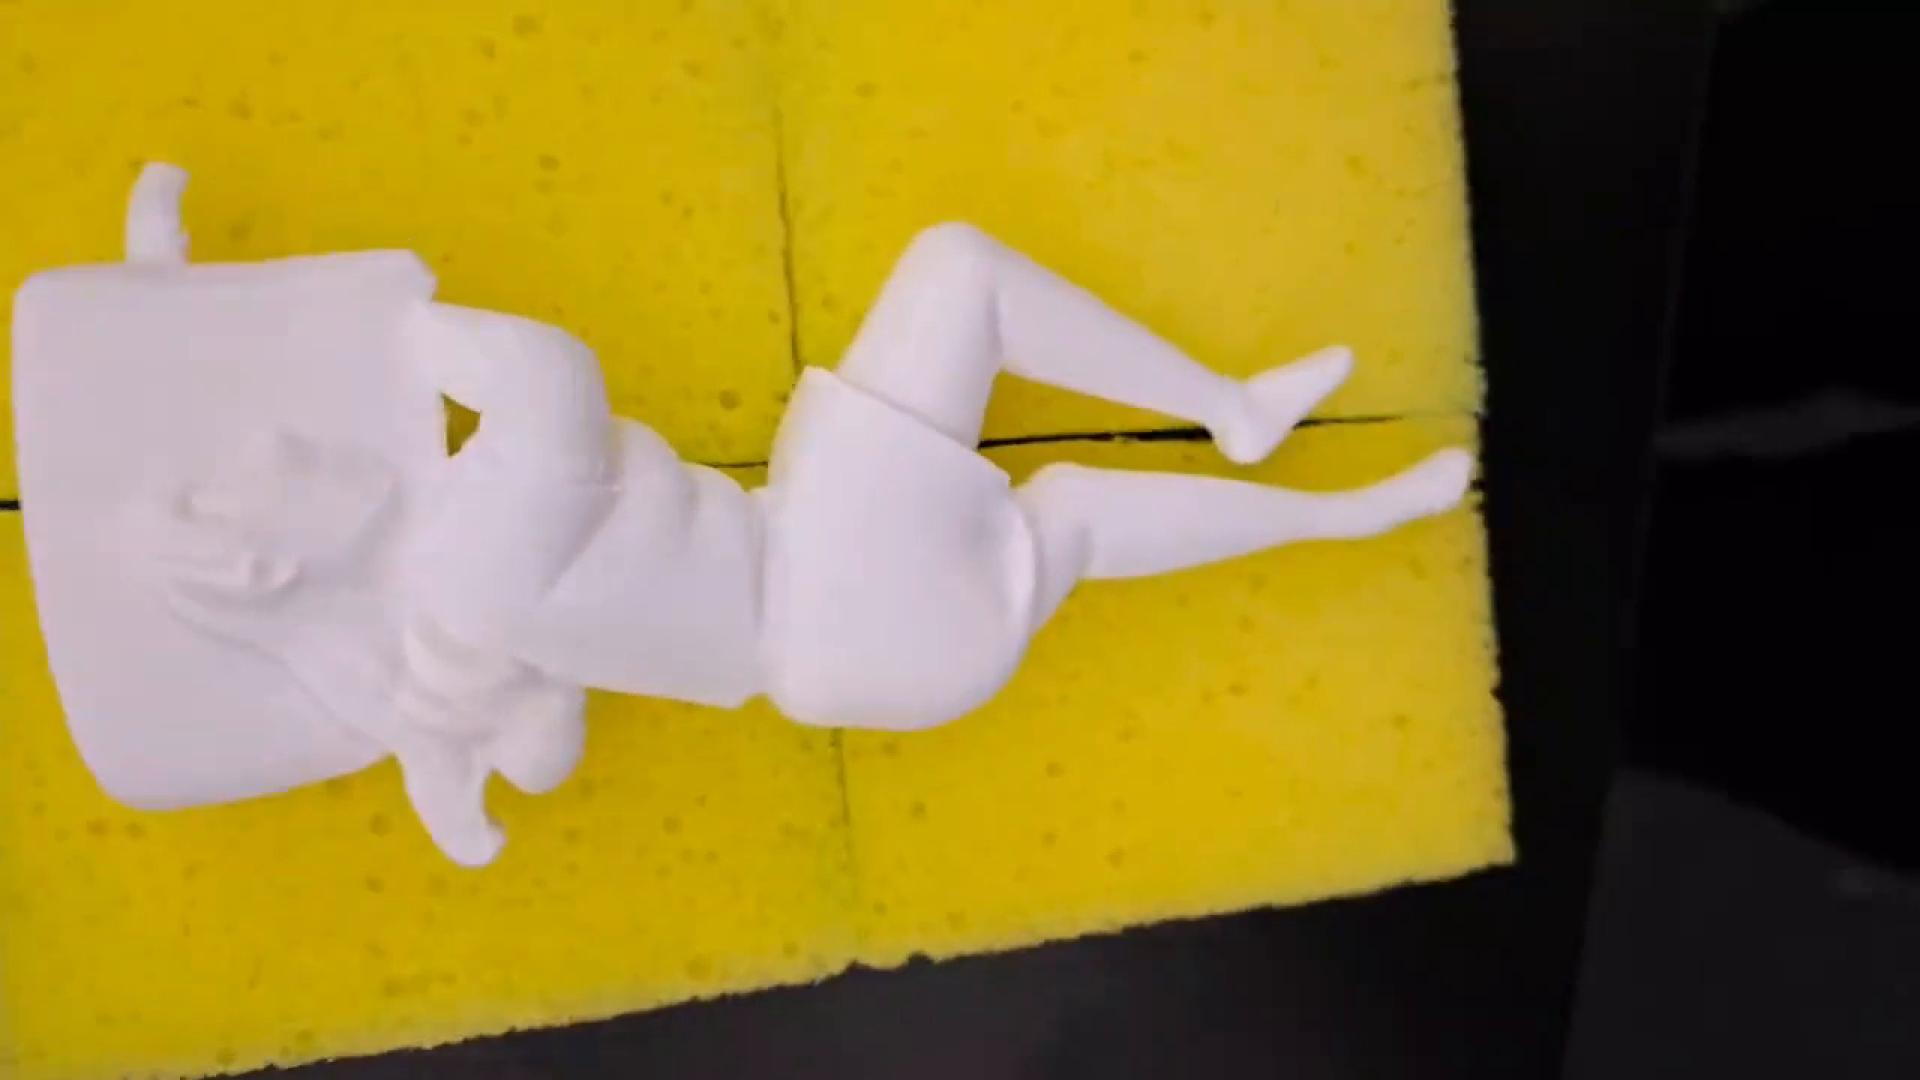Good-style: (7, 157, 1474, 870)
